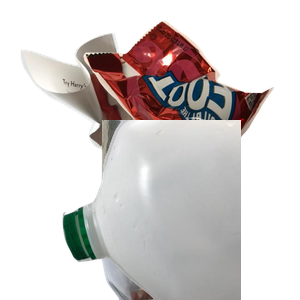glass: (96, 120, 283, 300)
paper: (18, 30, 213, 210)
plastic: (60, 120, 300, 300)
trash: (81, 18, 300, 182)
